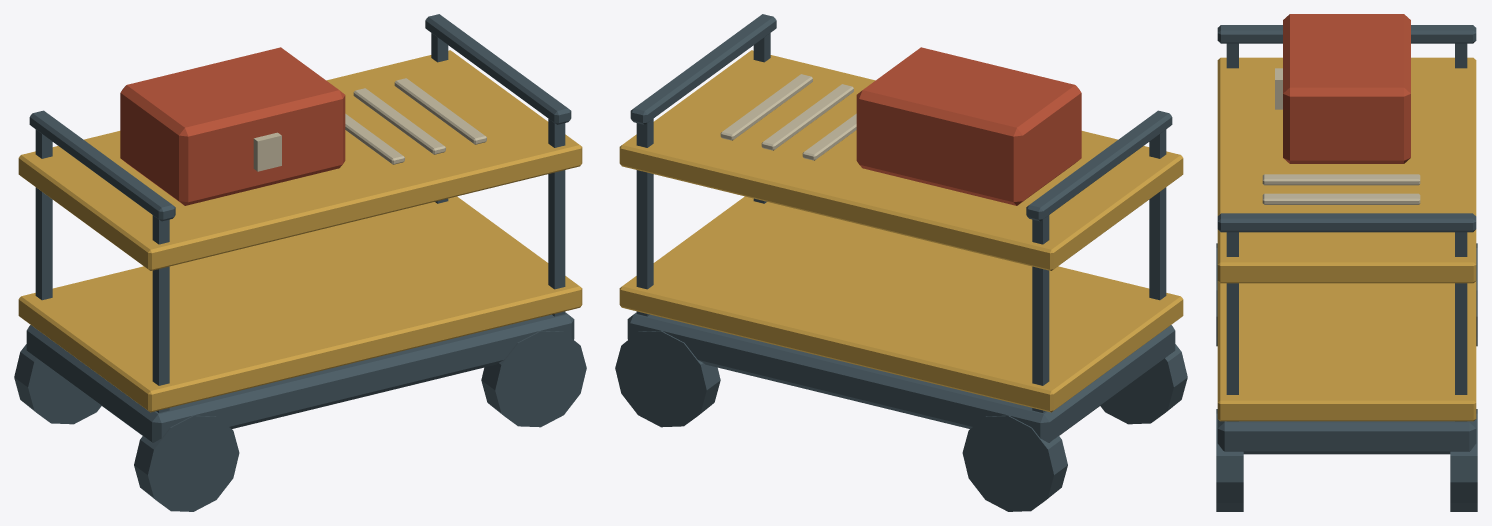
Rendered from work_cart.glb.
The picture shows the model from 3 angles, left to right: view 1: azimuth 30°, elevation 25°; view 2: azimuth 150°, elevation 25°; view 3: azimuth 270°, elevation 25°; orthographic projection. The views are drawn at different scales.
Parts seen in each view (by area): view 1: work_cart; view 2: work_cart; view 3: work_cart.
Part boxes in pixels (box(x1,y1,x2,y2)): work_cart: box(14, 14, 586, 511); work_cart: box(615, 14, 1187, 511); work_cart: box(1216, 14, 1477, 511).
Size of the model in its own units: 1.82 by 1.38 by 0.96.
